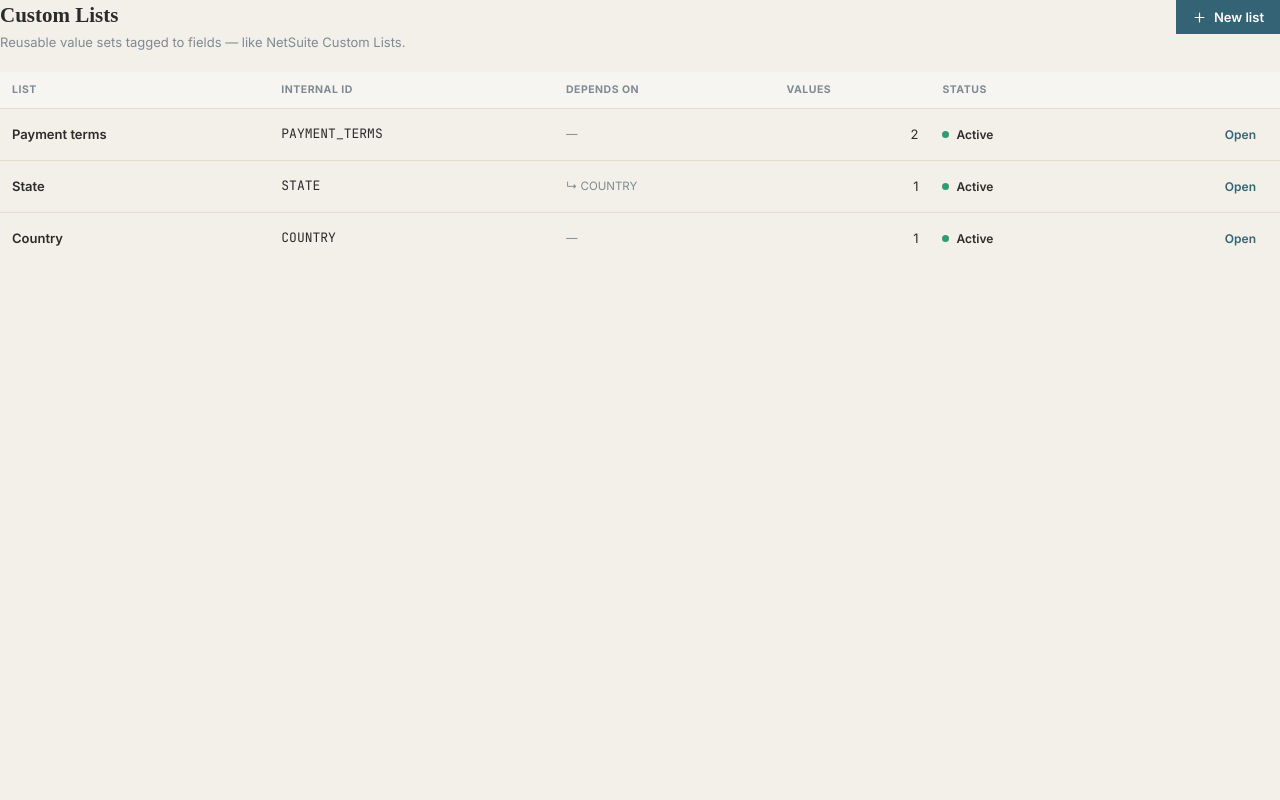
AdminCustomLists (NetSuite-style custom lists) › the value X opens the impact report; a live-usage block disables Delete and NAMES the store
Click the button with aria-label "Open Payment terms" at (1240, 134), box [1213,120,1268,148]
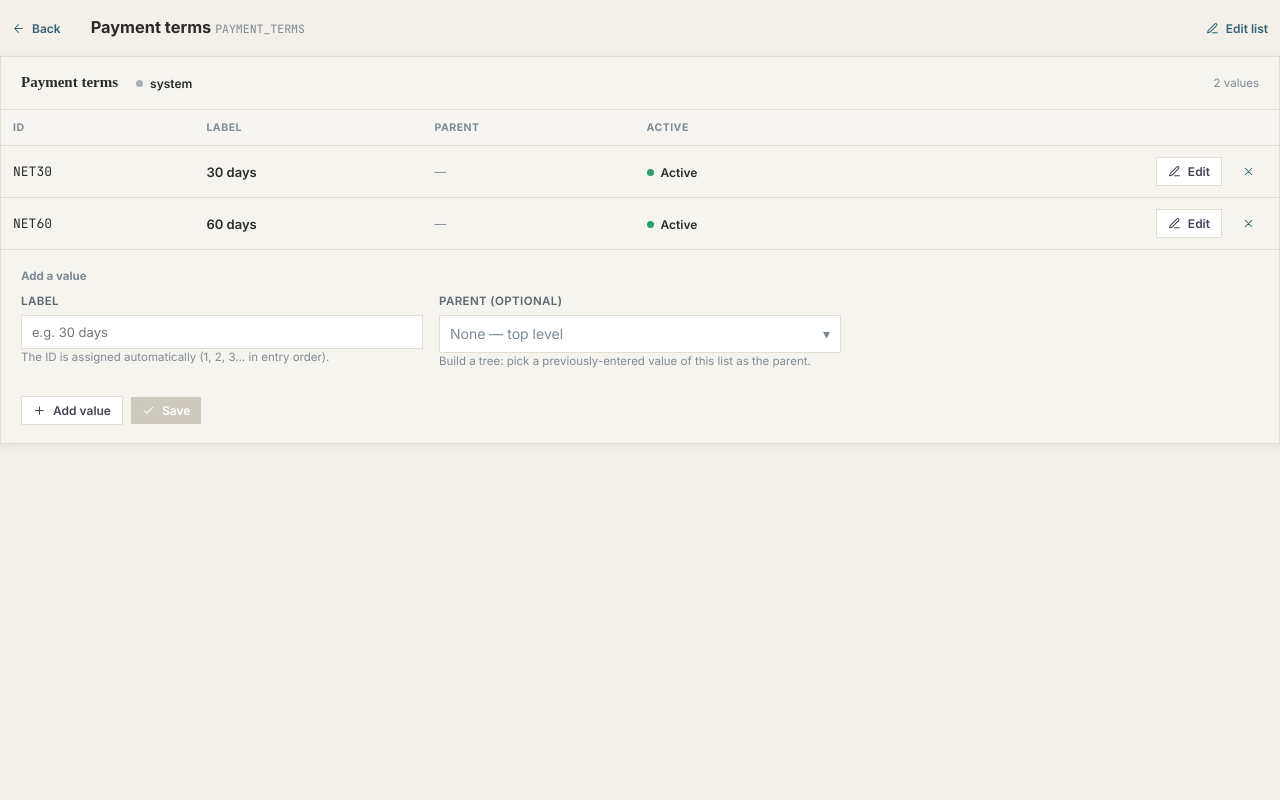
Click the button named "Delete NET30" at (1248, 172), box [1230,158,1267,186]
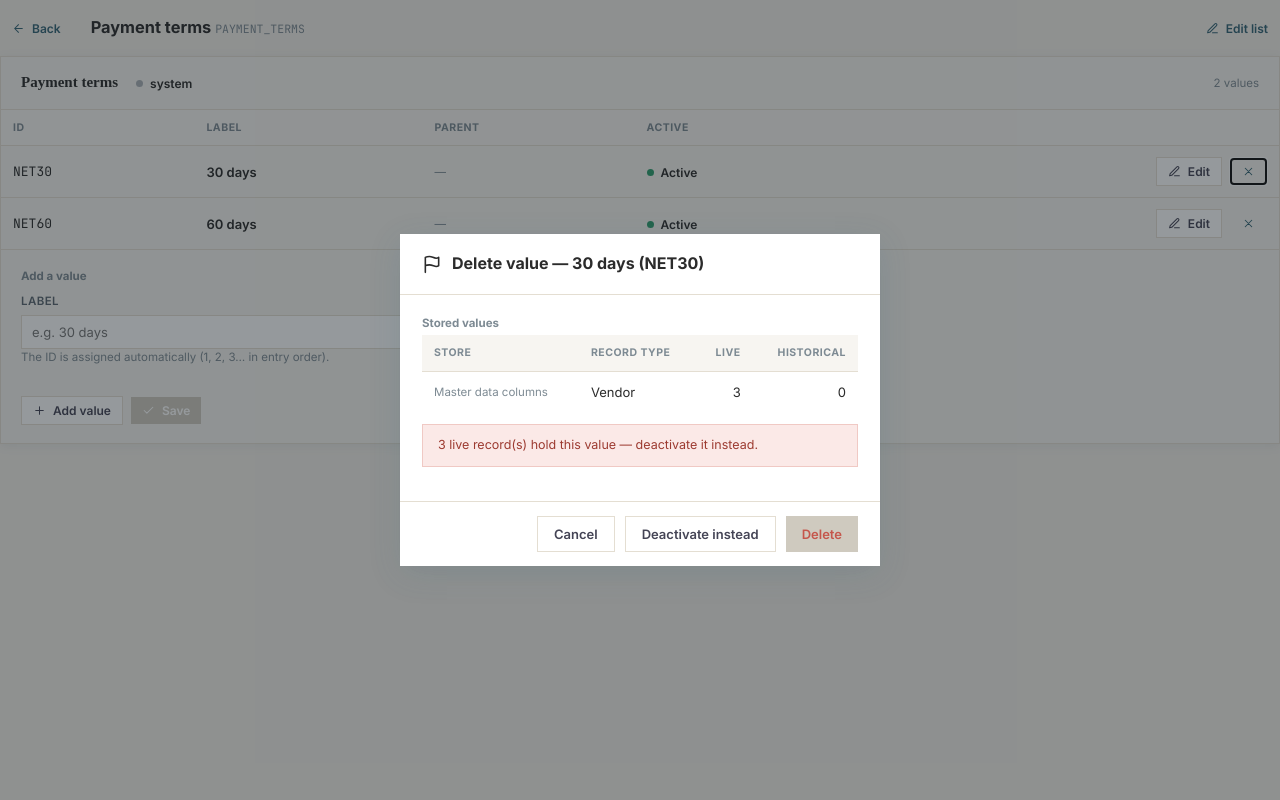
Expected: the text "3 live record(s) hold this value — deactivate it instead." is shown, [422,424,858,466]
Expected: the text "Master data columns" is shown, [422,371,579,412]
Expected: the button with aria-label "Delete list value" is disabled, [786,516,858,552]
